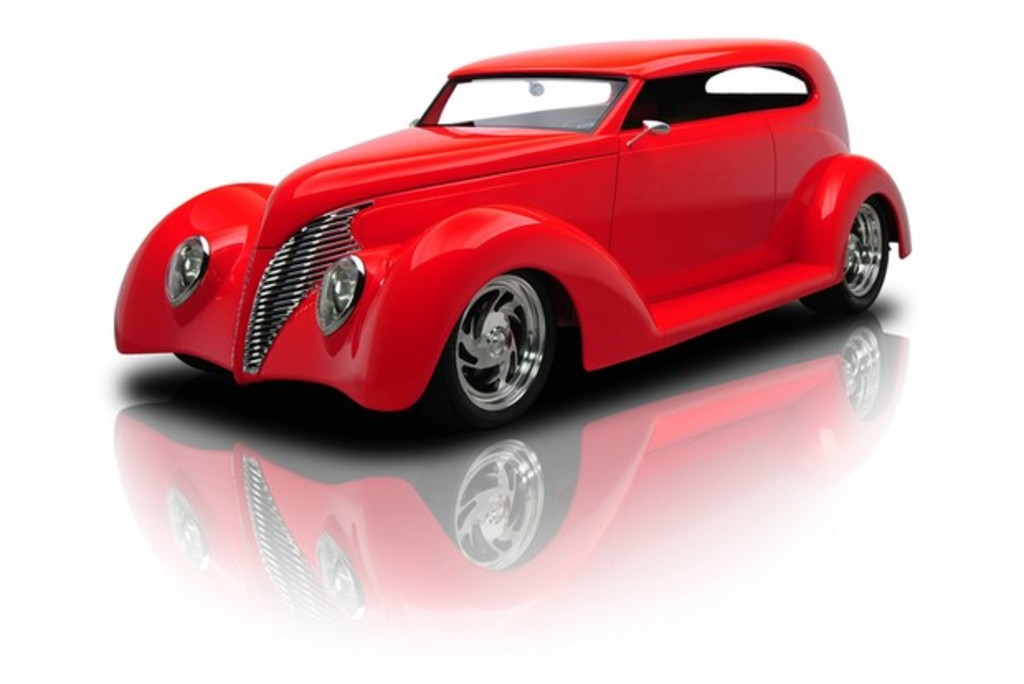cars: (110, 21, 923, 428)
